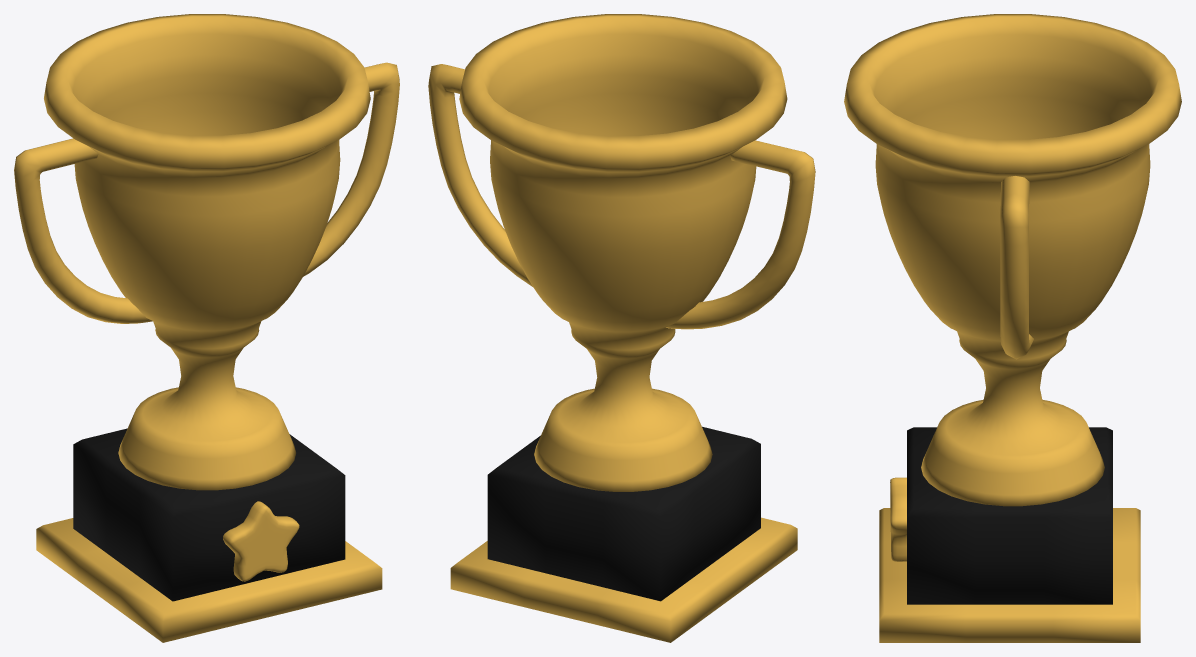
Rendered from Championship trophy.fbx.
3 renders of one model, left to right at view 1: azimuth 30°, elevation 25°; view 2: azimuth 150°, elevation 25°; view 3: azimuth 270°, elevation 25°, orthographic. The views are drawn at different scales.
Visible parts, largest first — view 1: Trophy; view 2: Trophy; view 3: Trophy.
Part boxes in pixels (x1,y1,x2,y2): Trophy: (14,14,399,642); Trophy: (428,14,815,642); Trophy: (844,14,1181,642).
Size of the model in its own units: 85.14 by 104 by 62.65.
